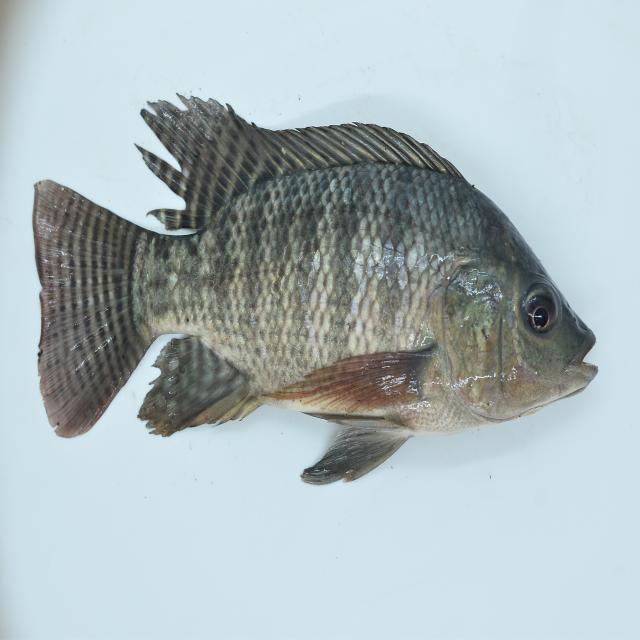Healthy Fish: (33, 93, 606, 485)
